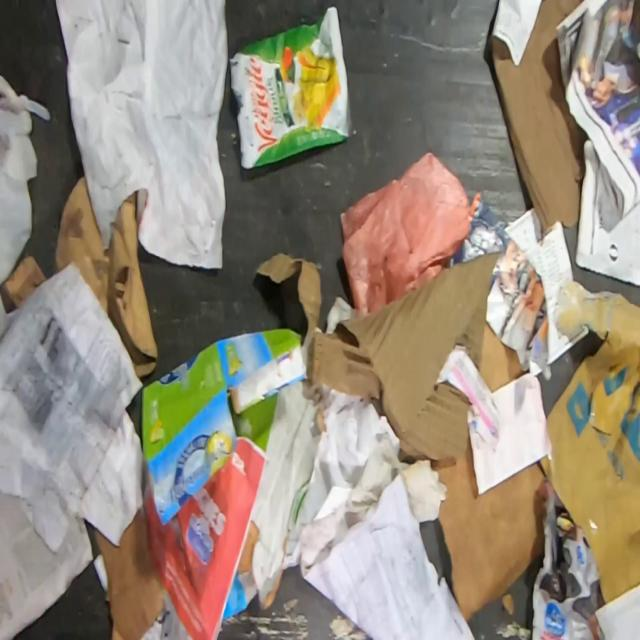cardboard: (256, 250, 523, 459), (538, 280, 640, 606), (141, 328, 306, 528), (2, 174, 156, 378), (490, 1, 588, 237), (434, 425, 546, 622), (95, 509, 165, 639)
soft_plastic: (339, 151, 474, 313), (230, 7, 350, 171), (0, 73, 51, 286)
